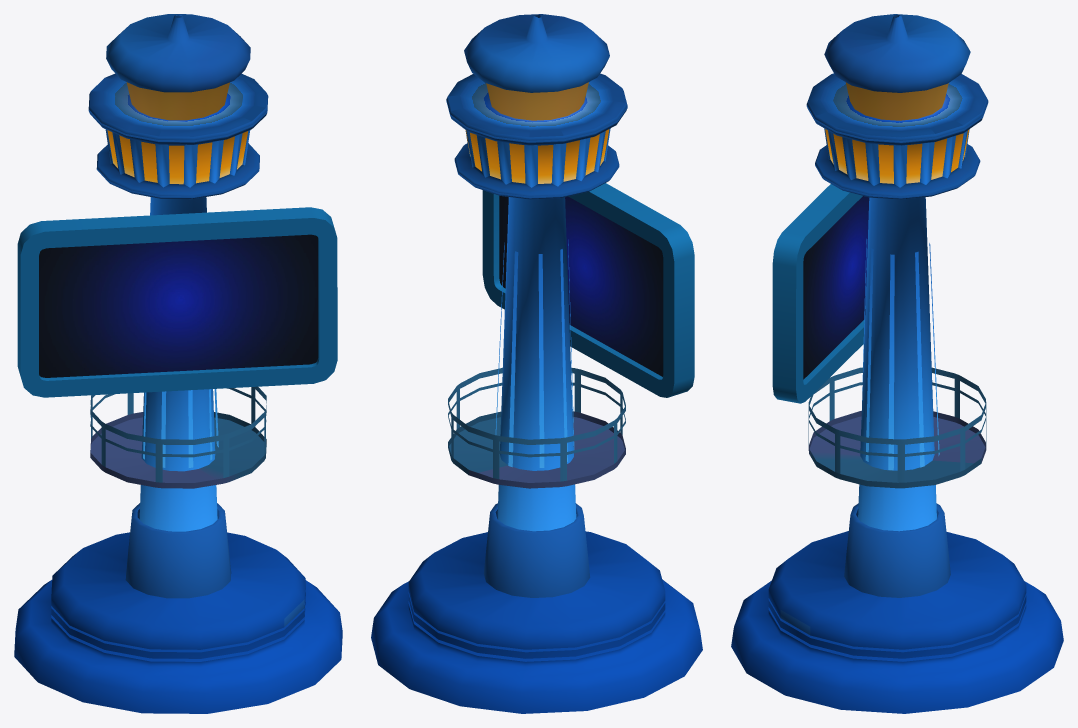
File: Video Tower.glb
The picture shows the model from 3 angles, left to right: view 1: azimuth 30°, elevation 25°; view 2: azimuth 150°, elevation 25°; view 3: azimuth 270°, elevation 25°; orthographic projection.
Visible parts, largest first — view 1: Video Tower; view 2: Video Tower; view 3: Video Tower.
Part boxes in pixels (bbox=[...]): Video Tower: bbox=[14, 14, 342, 713]; Video Tower: bbox=[371, 14, 702, 713]; Video Tower: bbox=[731, 14, 1063, 713].
Size of the model in its own units: 1.61 by 3.21 by 1.54.
Materials: 5 (4 with a texture image).
